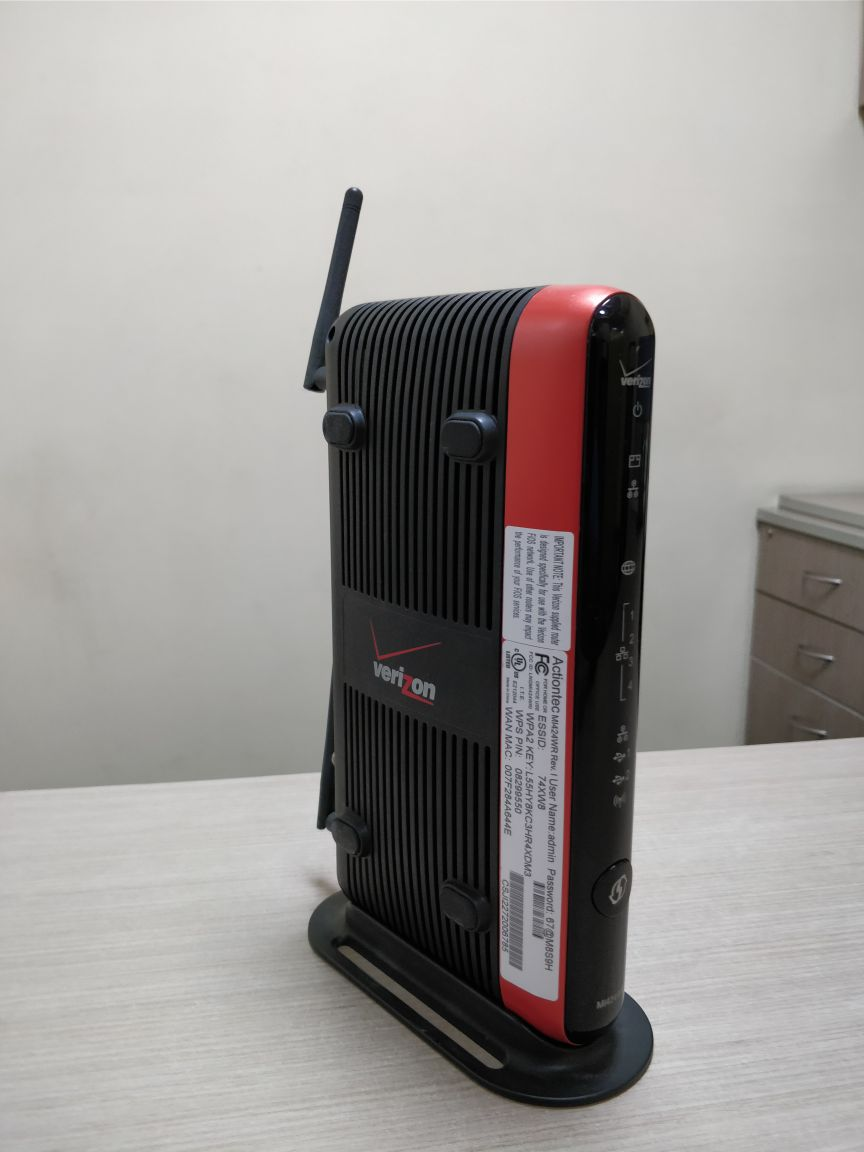Verizon Router: (252, 205, 690, 1126)
